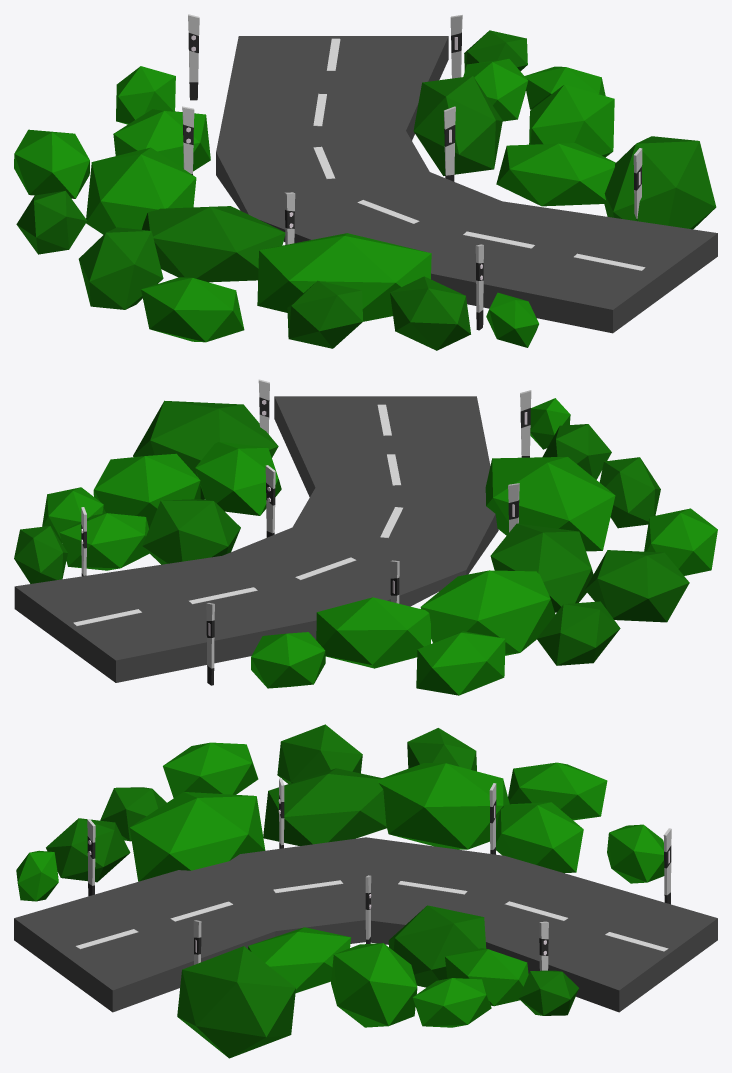
File: street2_02_6.fbx
The picture shows the model from 3 angles, top to bottom: view 1: azimuth 30°, elevation 25°; view 2: azimuth 150°, elevation 25°; view 3: azimuth 270°, elevation 25°; orthographic projection. The views are drawn at different scales.
Parts seen in each view (by area): view 1: street02.001, bush.012, bush, bush.007, bush.001, bush.010, bush.008, bush.016, bush.006, bush.002, bush.015, bush.011 (+14 smaller); view 2: street02.001, bush.012, bush.001, bush.013, bush.007, bush.006, bush, bush.002, bush.010, bush.011, bush.008, bush.009 (+12 smaller); view 3: street02.001, bush.007, bush.012, bush.001, bush, bush.002, bush.013, bush.010, bush.011, bush.016, bush.008, bush.006 (+10 smaller).
Part boxes in pixels (x1,y1,x2,y2): street02.001: (216, 36, 717, 333); bush.012: (257, 233, 431, 321); bush: (142, 206, 285, 282); bush.007: (604, 136, 716, 229); bush.001: (86, 147, 196, 234); bush.010: (413, 76, 502, 175); bush.008: (496, 143, 615, 206); bush.016: (141, 277, 244, 342); bush.006: (78, 227, 163, 309); bush.002: (529, 84, 614, 157); bush.015: (390, 276, 470, 350); bush.011: (14, 129, 89, 198); street02.001: (14, 396, 498, 682); bush.012: (485, 457, 615, 551); bush.001: (420, 570, 555, 655); bush.013: (316, 597, 430, 668); bush.007: (133, 400, 278, 499); bush.006: (585, 550, 689, 622); bush: (490, 523, 593, 612); bush.002: (93, 453, 200, 528); bush.010: (142, 499, 240, 564); bush.011: (416, 631, 505, 695); bush.008: (195, 442, 281, 515); bush.009: (59, 513, 149, 570); street02.001: (14, 837, 717, 1012); bush.007: (177, 946, 295, 1058); bush.012: (129, 792, 265, 881); bush.001: (377, 763, 509, 849); bush: (263, 768, 386, 845); bush.002: (331, 943, 417, 1027); bush.013: (496, 802, 583, 873); bush.010: (388, 905, 486, 987); bush.011: (508, 762, 607, 820); bush.016: (163, 742, 258, 797); bush.008: (248, 927, 351, 992); bush.006: (277, 724, 362, 783).
Size of the model in its own units: 91.29 by 17.56 by 99.52.
